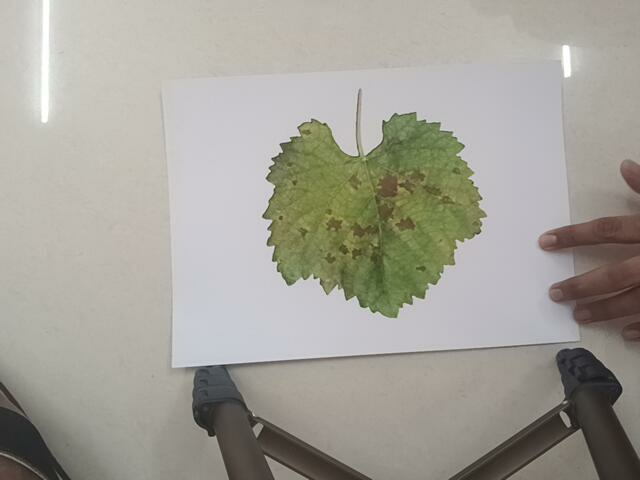Grape_Leaf_Vine_Disease: (248, 101, 503, 320)
